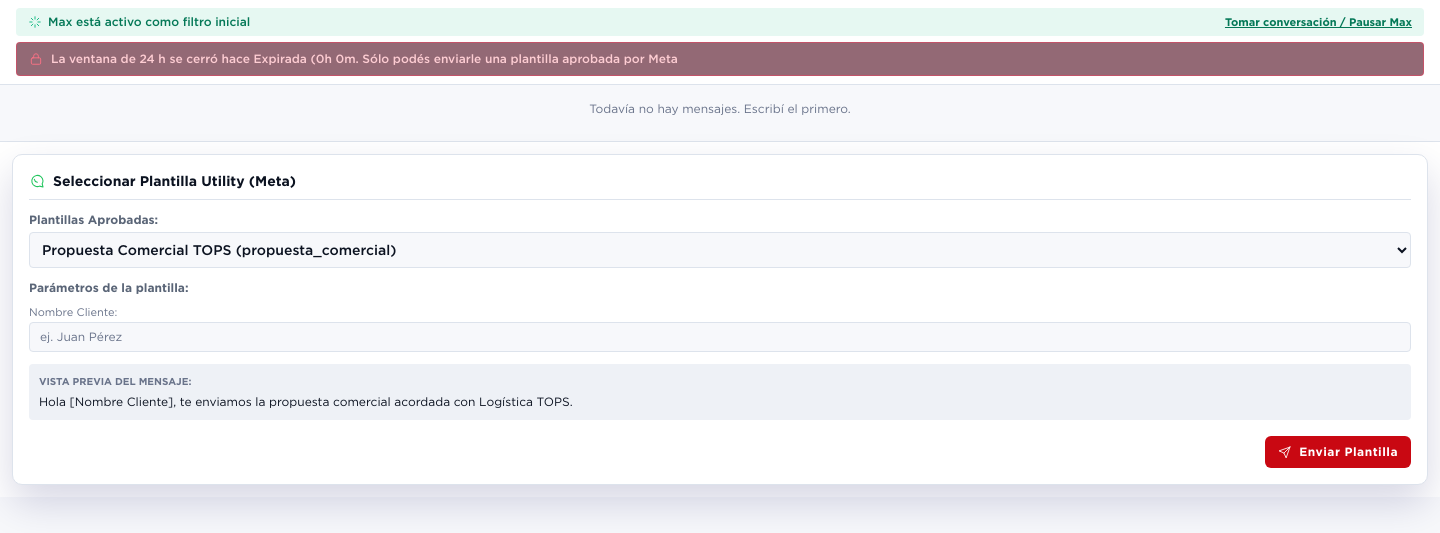
Scenario: HOTFIX · control reversible de Max › persiste PAUSED_HUMAN antes de cambiar la interfaz
Click the button "Tomar conversación / Pausar Max": (1318, 22) [1225, 14, 1412, 30]
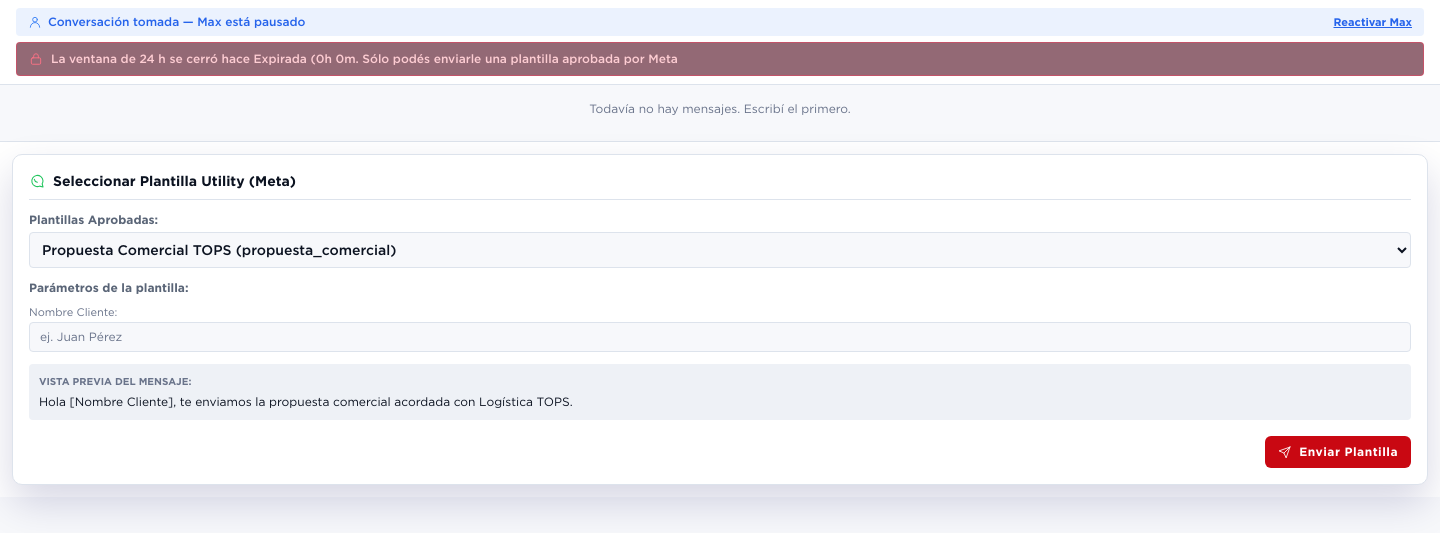
Check: the text "Conversación tomada — Max está pausado" is shown, box [48, 14, 305, 30]
Check: the text "Reactivar Max" is shown, box [1334, 14, 1412, 30]
